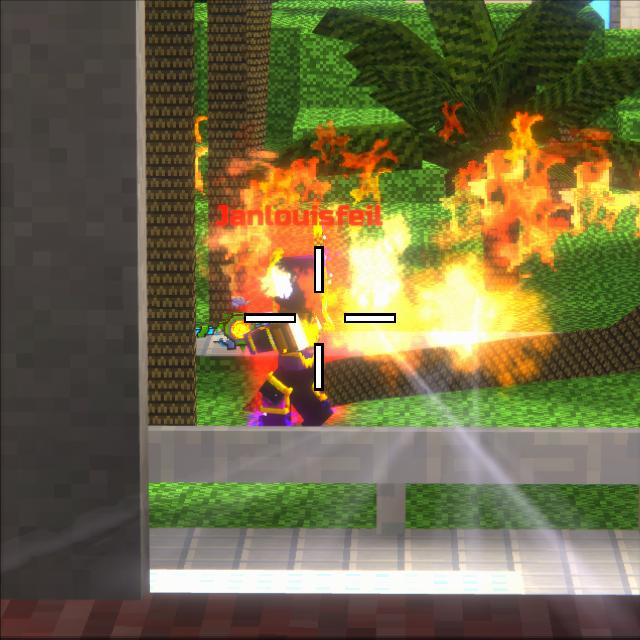Enemy: (230, 254, 335, 427)
